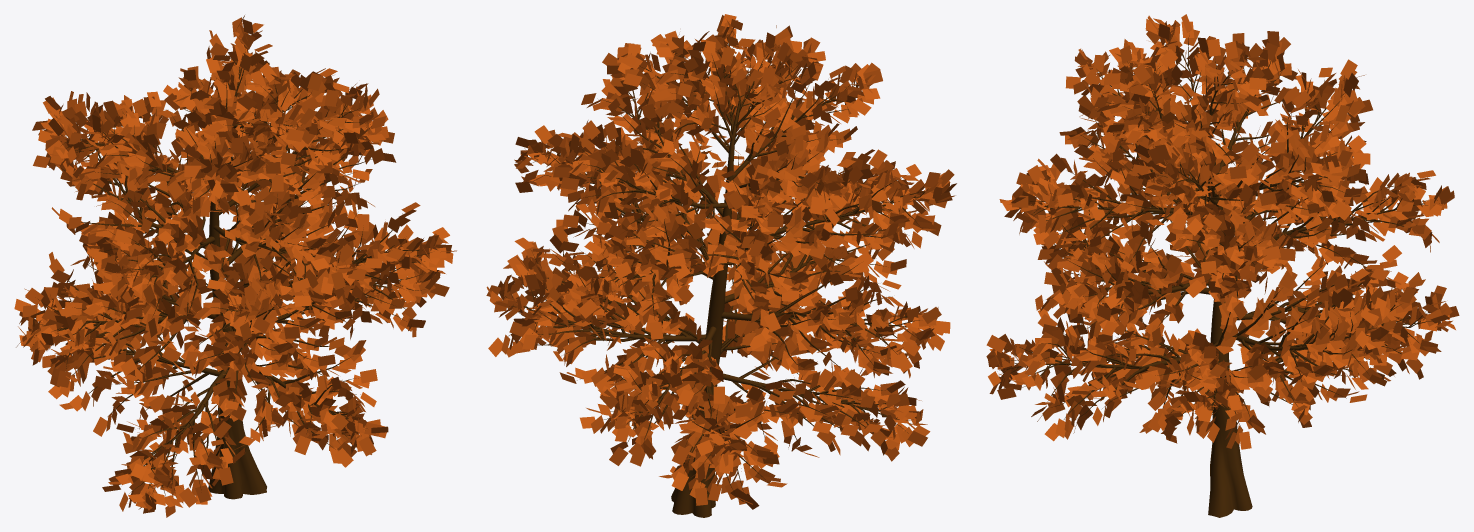
File: Mid Tree.FBX
The picture shows the model from 3 angles, left to right: view 1: azimuth 30°, elevation 25°; view 2: azimuth 150°, elevation 25°; view 3: azimuth 270°, elevation 25°; orthographic projection. The views are drawn at different scales.
Parts seen in each view (by area): view 1: Foliage001; view 2: Foliage001; view 3: Foliage001.
Part boxes in pixels (x1,y1,x2,y2): Foliage001: (14,15,456,517); Foliage001: (486,14,956,517); Foliage001: (986,14,1459,517).
Bounding box in the file's own units: 440 × 457 × 418.
